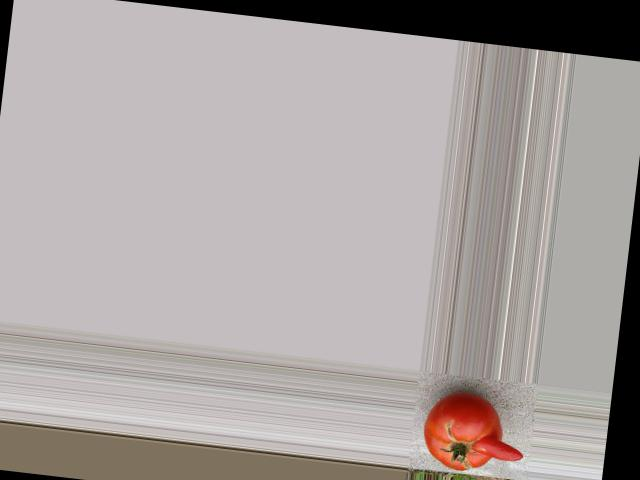tomato: (418, 389, 506, 474)
